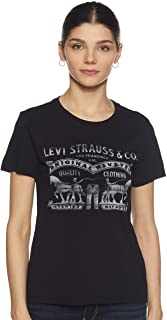tshirt: (1, 93, 167, 312)
